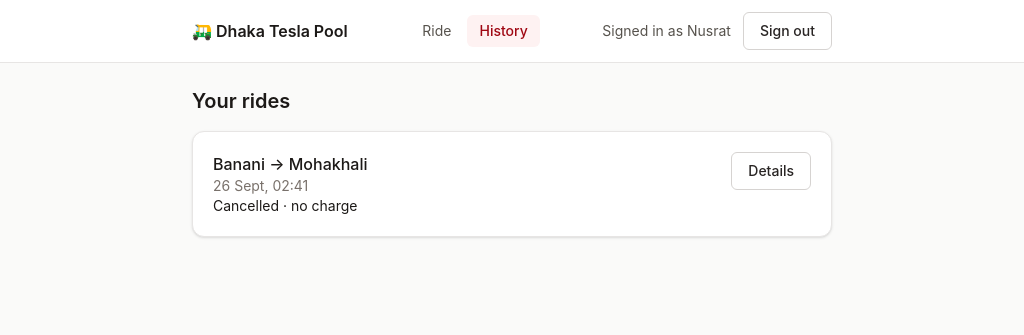
passenger history › describes an automatic match and a driver cancellation in plain words
The width and height of the screenshot is (1024, 335).
Expected: the text "Cancelled · no charge" is shown, [213,196,368,216]
What coordinates should you click on to do the following:
click the button "Details"
I would click on:
 (771, 171)
Its box is [731,152,811,190].
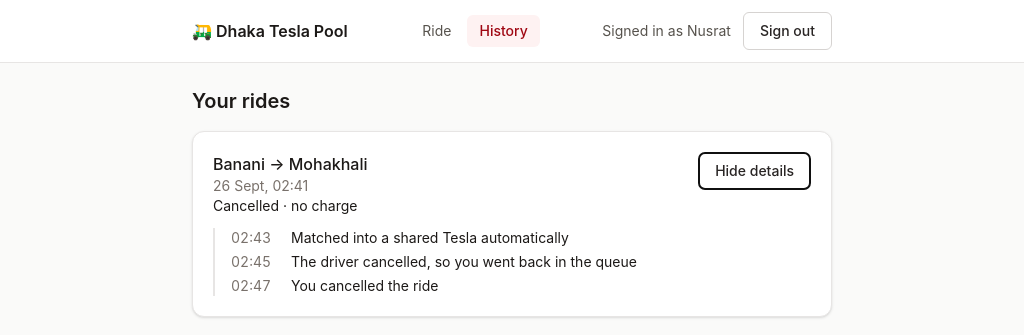
Expected: the text "Matched into a shared Tesla automatically" is shown, [291,228,569,248]
Expected: the text "The driver cancelled, so you went back in the queue" is shown, [291,252,637,272]
Expected: the text "You cancelled the ride" is shown, [291,276,438,296]
